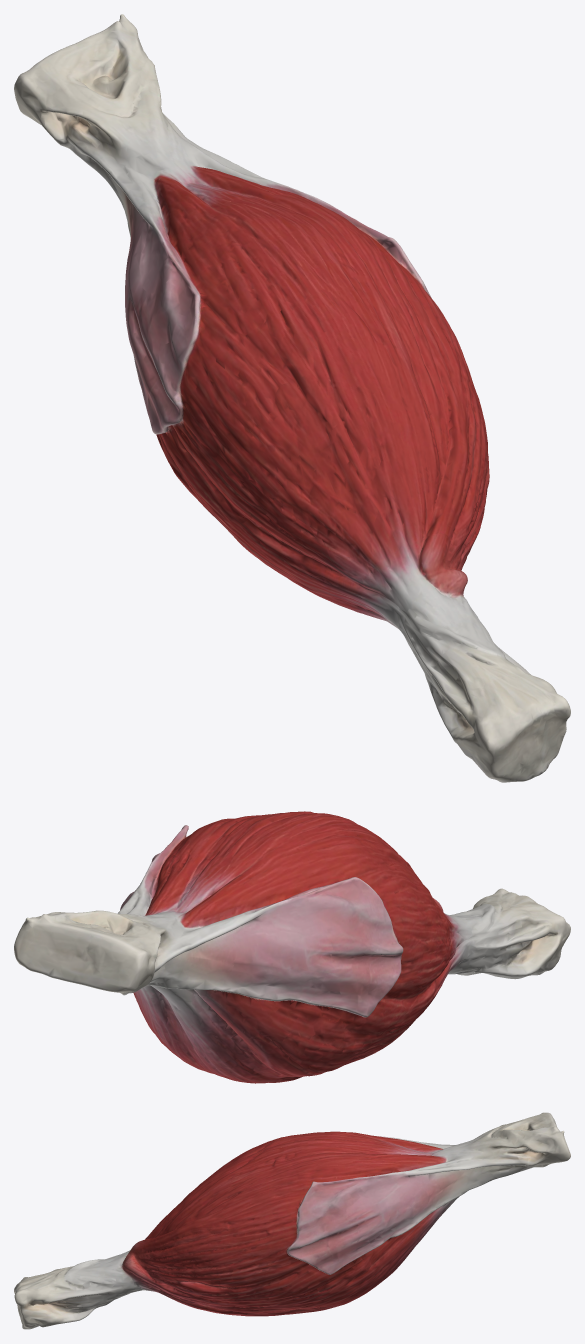
File: muscle.glb
The picture shows the model from 3 angles, top to bottom: view 1: azimuth 30°, elevation 25°; view 2: azimuth 150°, elevation 25°; view 3: azimuth 270°, elevation 25°; orthographic projection. The views are drawn at different scales.
Parts seen in each view (by area): view 1: tripo_node_503a0731-5ecd-4a14-a6ad-e8a7f5f9d1f1; view 2: tripo_node_503a0731-5ecd-4a14-a6ad-e8a7f5f9d1f1; view 3: tripo_node_503a0731-5ecd-4a14-a6ad-e8a7f5f9d1f1.
Boxes of the visible parts, x1=… form: tripo_node_503a0731-5ecd-4a14-a6ad-e8a7f5f9d1f1: x1=14, y1=14, x2=570, y2=782; tripo_node_503a0731-5ecd-4a14-a6ad-e8a7f5f9d1f1: x1=14, y1=811, x2=570, y2=1083; tripo_node_503a0731-5ecd-4a14-a6ad-e8a7f5f9d1f1: x1=14, y1=1112, x2=570, y2=1329.
Size of the model in its own units: 0.316 by 0.4344 by 0.9999.
1 material, 1 textured.
